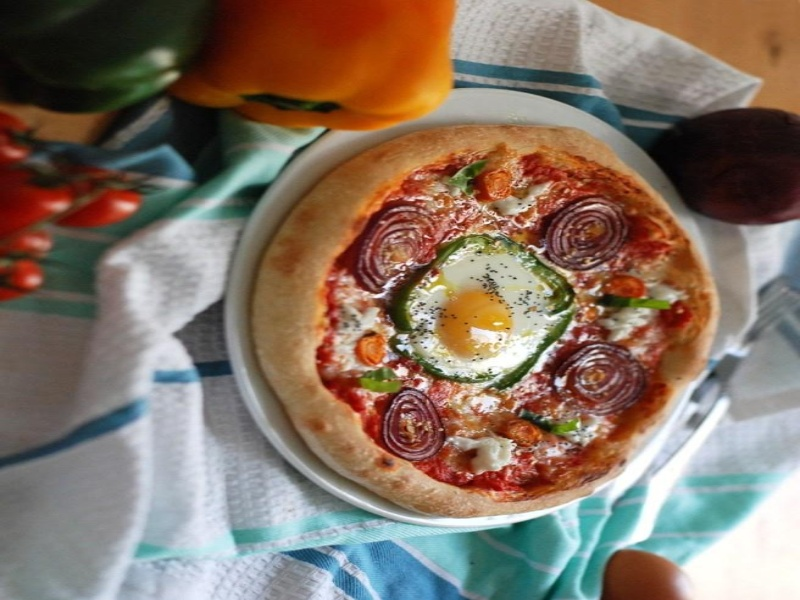oeuf: (422, 283, 528, 370)
